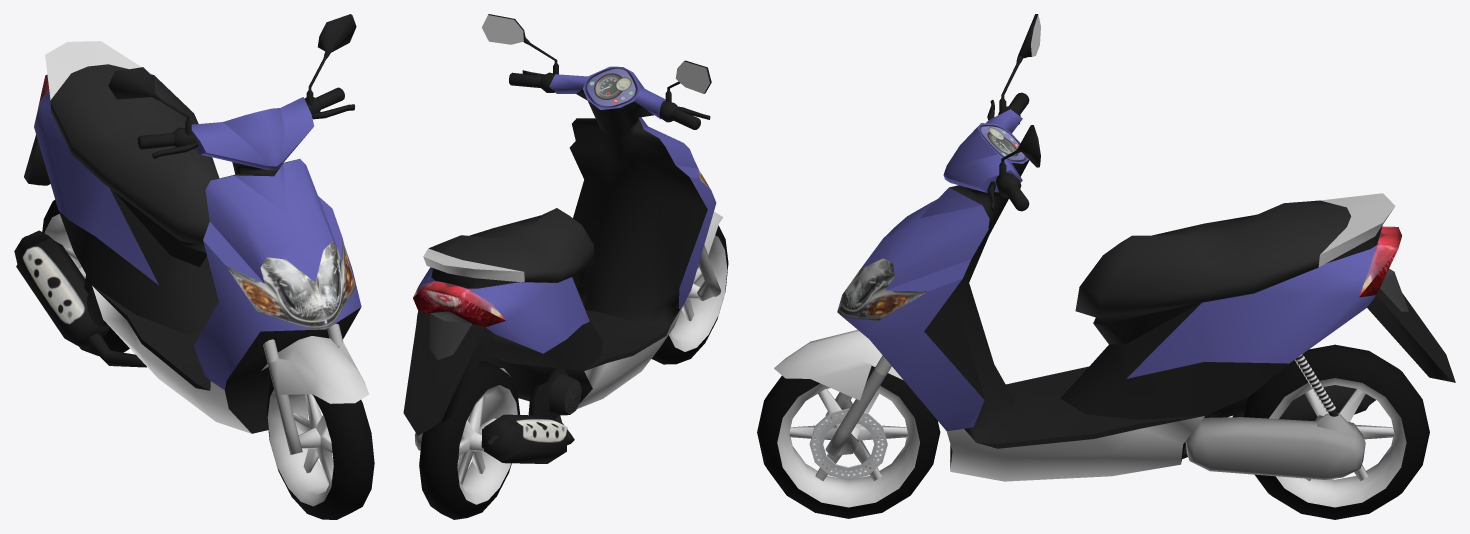
Rendered from scooter_184.glb.
3 renders of one model, left to right at view 1: azimuth 30°, elevation 25°; view 2: azimuth 150°, elevation 25°; view 3: azimuth 270°, elevation 25°, orthographic. The views are drawn at different scales.
Visible parts, largest first — view 1: Object_7, Object_4, Object_5, Object_9, Object_13, Object_11, Object_3, Object_2, Object_12, Object_6; view 2: Object_4, Object_7, Object_9, Object_5, Object_11, Object_13, Object_3, Object_10, Object_2, Object_8, Object_12; view 3: Object_7, Object_4, Object_9, Object_5, Object_11, Object_12, Object_13, Object_2, Object_3.
Boxes of the visible parts, x1,y1,x2,y2 form: Object_7: [34, 90, 361, 390]; Object_4: [24, 14, 360, 433]; Object_5: [50, 64, 219, 245]; Object_9: [44, 214, 368, 506]; Object_13: [22, 75, 356, 329]; Object_11: [42, 200, 374, 519]; Object_3: [14, 230, 146, 367]; Object_2: [45, 41, 153, 100]; Object_12: [267, 345, 340, 454]; Object_6: [263, 323, 343, 363]; Object_4: [403, 14, 711, 435]; Object_7: [419, 66, 716, 353]; Object_9: [457, 211, 727, 504]; Object_5: [429, 208, 594, 282]; Object_11: [419, 225, 728, 519]; Object_13: [413, 67, 710, 442]; Object_3: [481, 368, 581, 463]; Object_10: [482, 15, 709, 93]; Object_2: [423, 248, 524, 282]; Object_8: [429, 311, 472, 359]; Object_12: [414, 247, 720, 459]; Object_7: [843, 109, 1376, 430]; Object_4: [924, 14, 1455, 468]; Object_9: [774, 329, 1406, 507]; Object_5: [1075, 200, 1351, 318]; Object_11: [757, 344, 1429, 519]; Object_12: [825, 368, 1365, 479]; Object_13: [809, 125, 1401, 480]; Object_2: [1318, 193, 1395, 266]; Object_3: [1182, 355, 1375, 458].
Size of the model in its own units: 76.36 by 121 by 173.
Materials: 12 (1 with a texture image).
